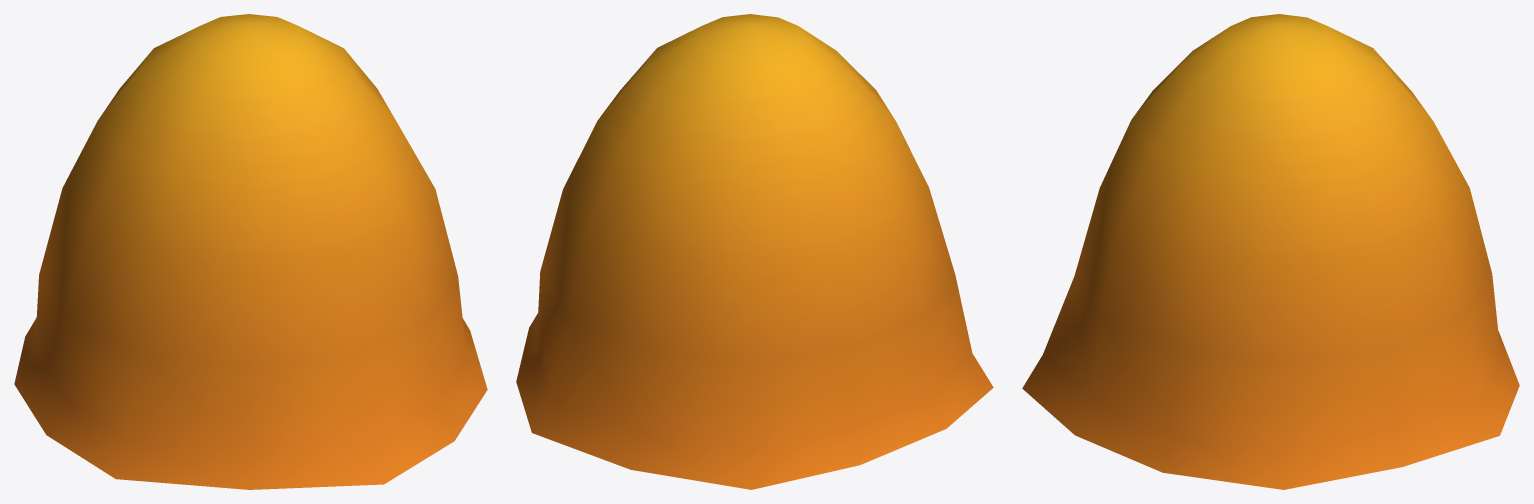
File: village_circle_straw.gltf
The picture shows the model from 3 angles, left to right: view 1: azimuth 30°, elevation 25°; view 2: azimuth 150°, elevation 25°; view 3: azimuth 270°, elevation 25°; orthographic projection. The views are drawn at different scales.
Parts seen in each view (by area): view 1: Hay_Pile_Material.005_0; view 2: Hay_Pile_Material.005_0; view 3: Hay_Pile_Material.005_0.
Part boxes in pixels (box(x1,y1,x2,y2)): Hay_Pile_Material.005_0: box(14, 14, 487, 489); Hay_Pile_Material.005_0: box(516, 14, 993, 489); Hay_Pile_Material.005_0: box(1022, 14, 1519, 489).
Size of the model in its own units: 0.8429 by 0.6913 by 0.866.
1 material, 1 textured.
